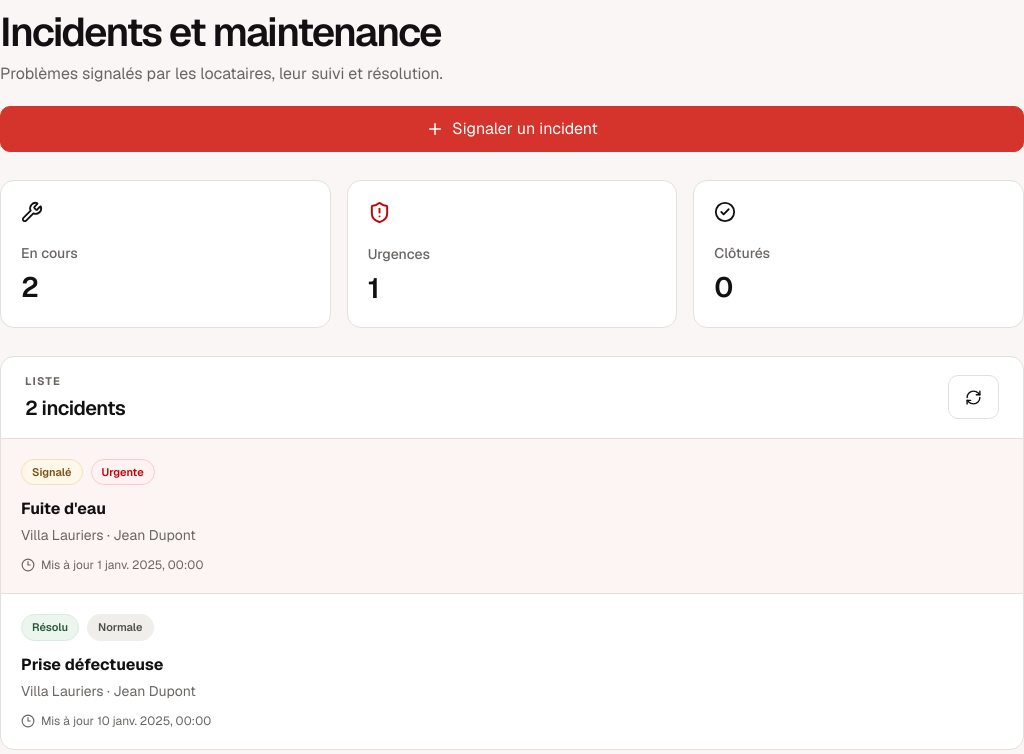
MaintenanceWorkspace › switches selected incident on click
Click the heading "Prise défectueuse" at (92, 664), box [21, 654, 164, 674]
(page scrolled)
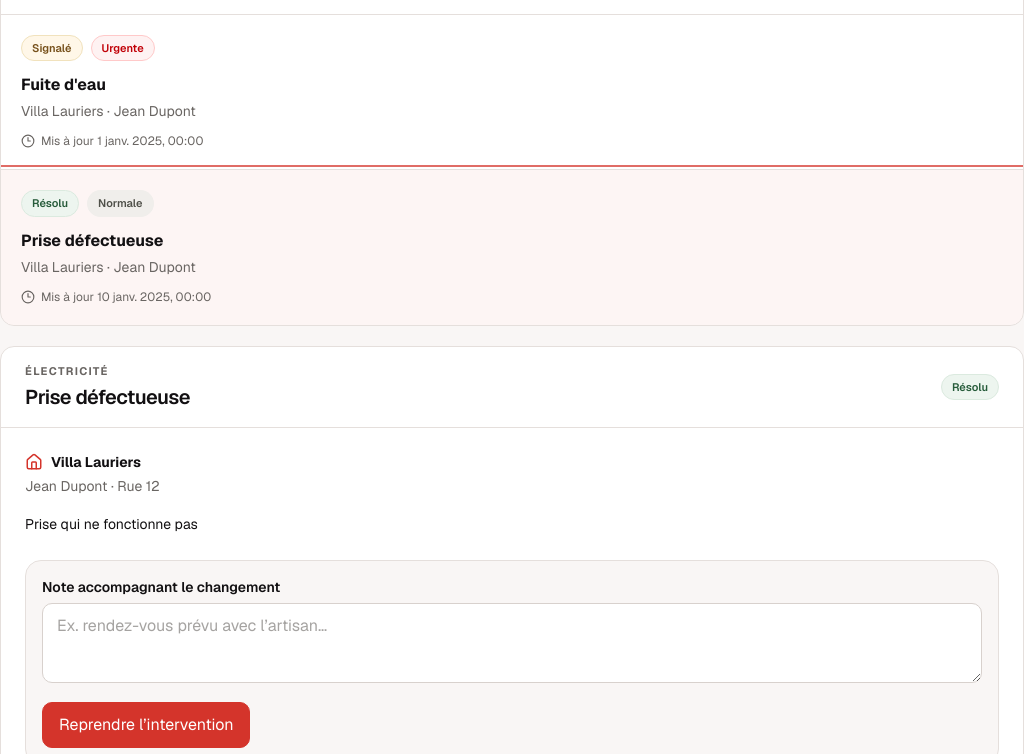
Now the text "Électricité" is shown, box [25, 364, 109, 378]
